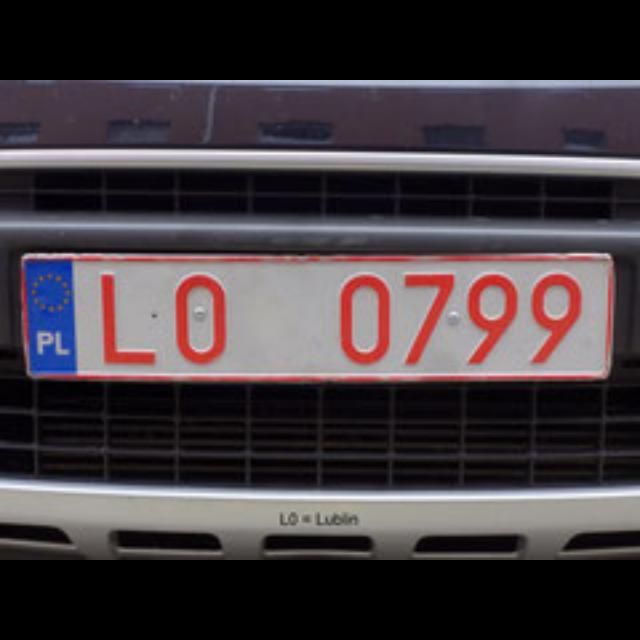pl_license_plate: (21, 253, 605, 373)
